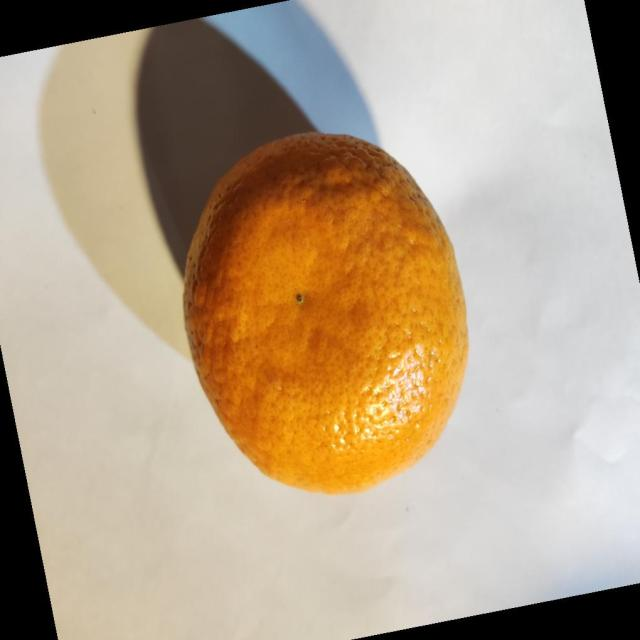fresh orange: (181, 131, 469, 495)
